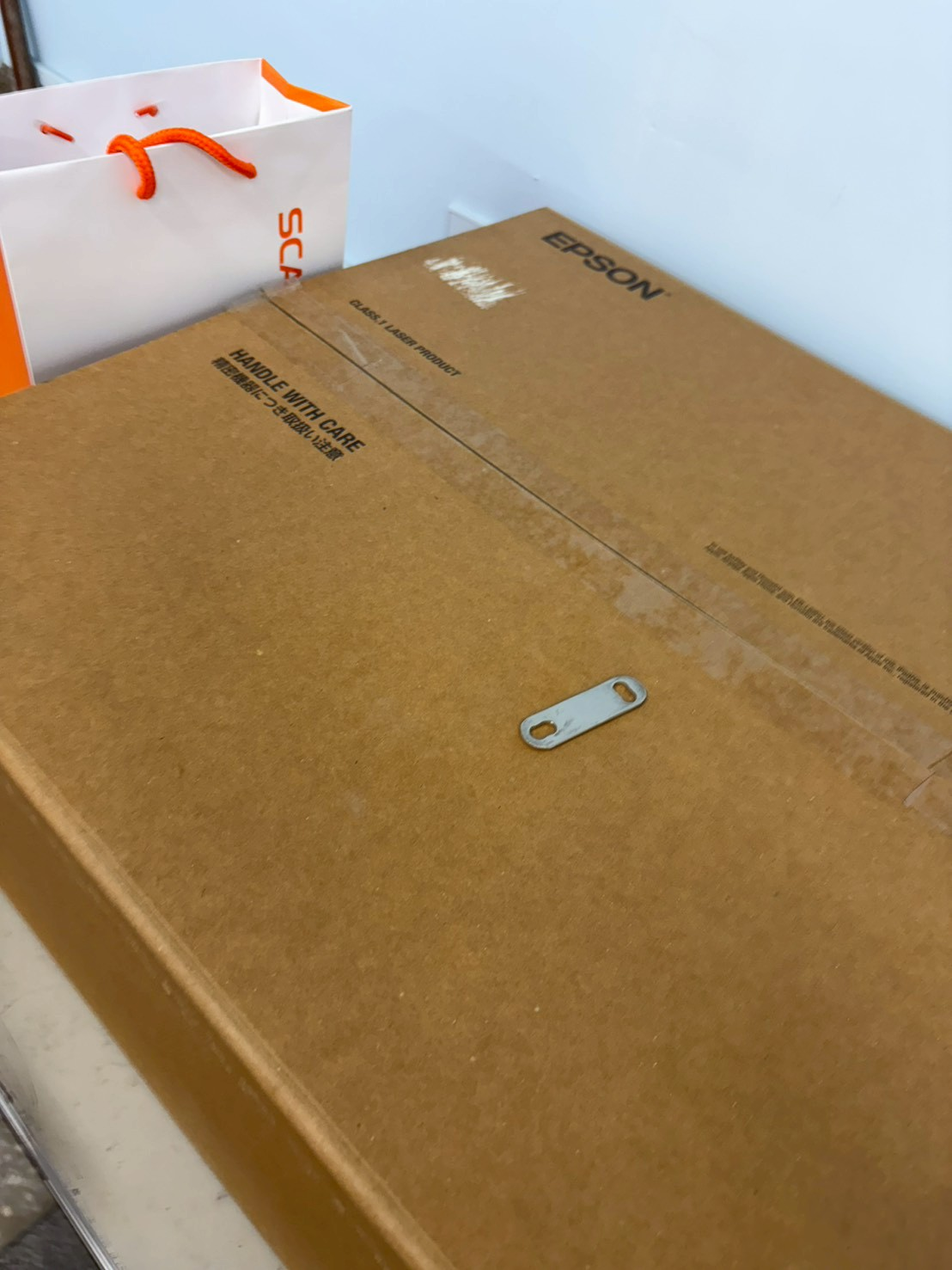Fe: (519, 657, 650, 765)
